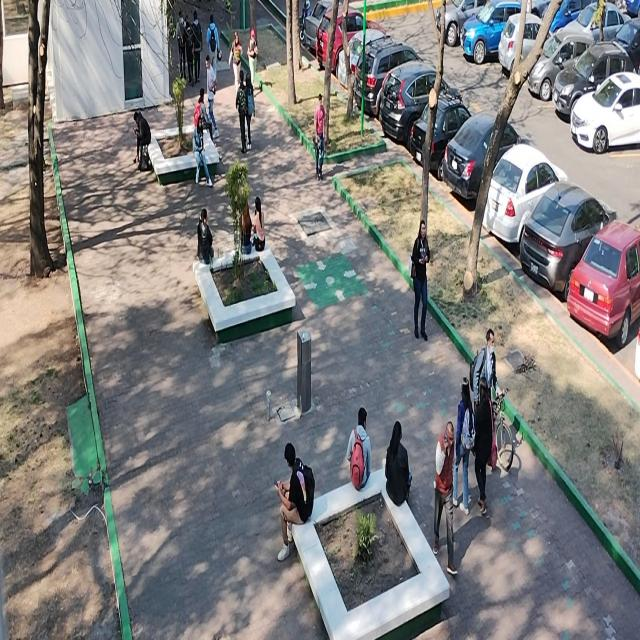adult: (276, 441, 307, 562), (433, 421, 457, 573), (452, 377, 473, 513), (474, 376, 494, 512), (474, 328, 504, 412), (346, 408, 372, 490), (411, 221, 429, 339), (385, 420, 410, 503), (192, 116, 213, 184), (133, 109, 151, 171), (205, 56, 218, 140), (314, 94, 325, 180), (244, 71, 256, 149), (198, 208, 214, 263), (229, 32, 242, 97), (236, 70, 246, 153), (206, 16, 220, 72), (176, 9, 186, 82), (192, 11, 202, 82), (239, 199, 251, 254), (252, 196, 264, 250), (248, 30, 258, 90), (185, 20, 194, 86), (198, 88, 212, 130)
